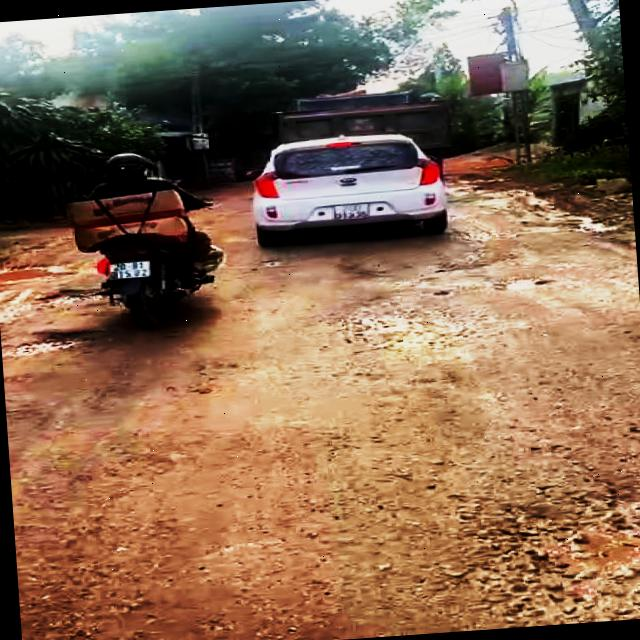pothole: (456, 477, 640, 628)
